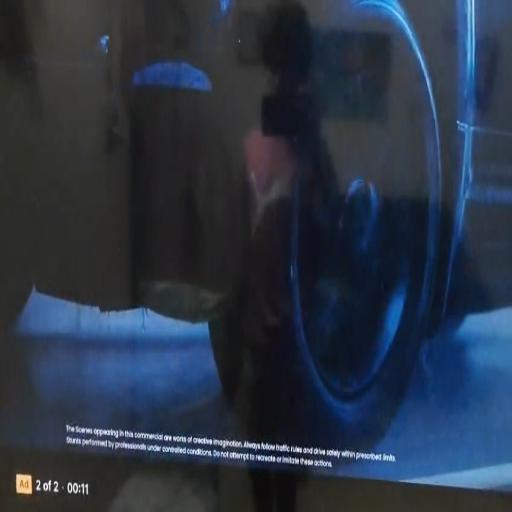ad label: (16, 472, 32, 497)
